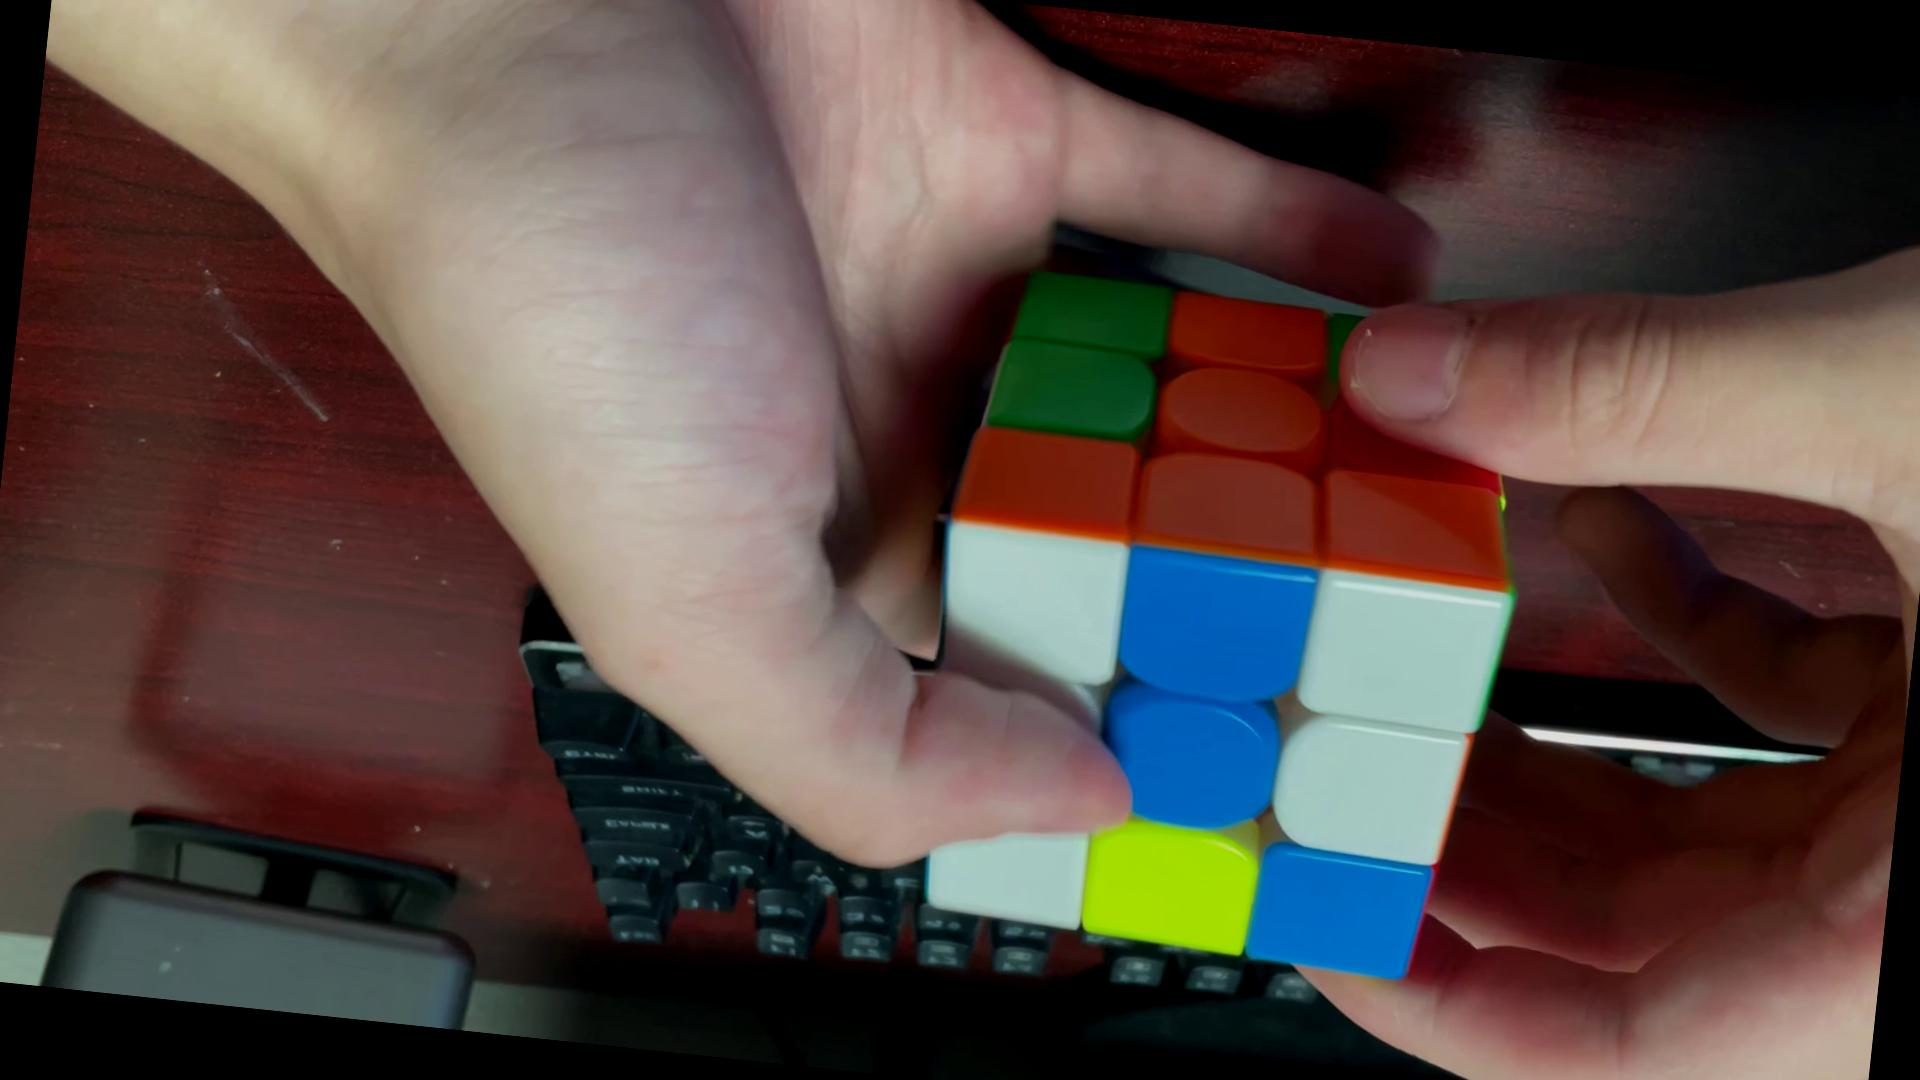Rubiks-Cube: (888, 262, 1558, 1008)
